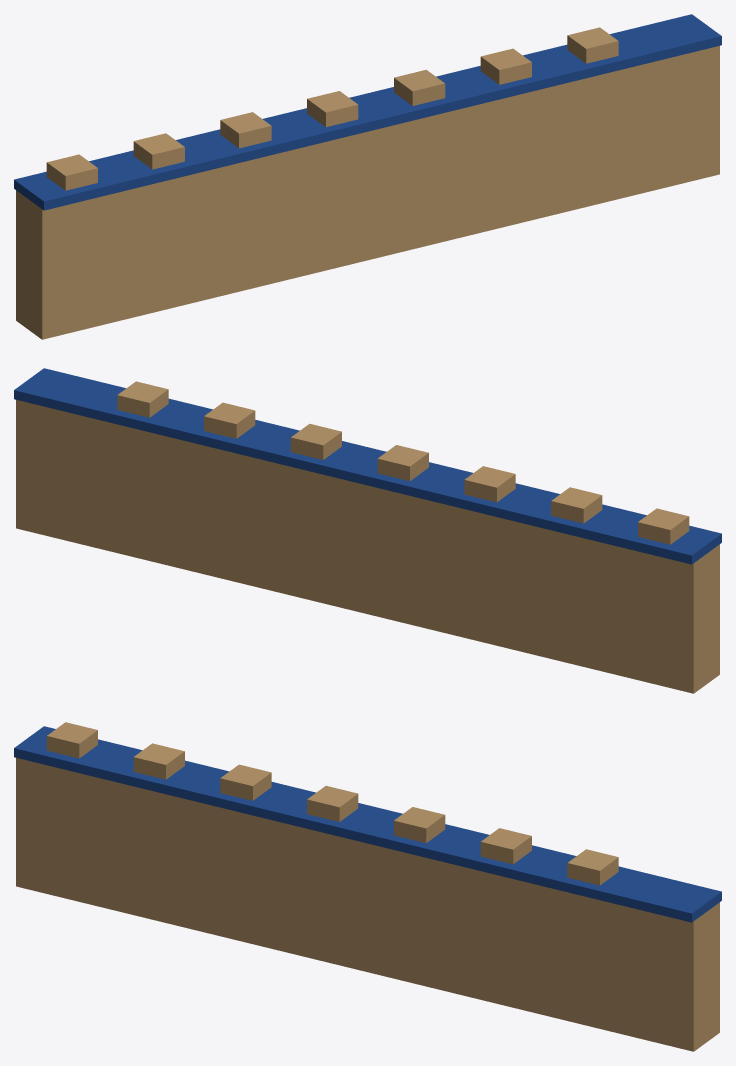
The model's file is gnoll_wall.glb.
3 views of the same model, one above another, from view 1: azimuth 30°, elevation 25°; view 2: azimuth 150°, elevation 25°; view 3: azimuth 330°, elevation 25° (orthographic).
Visible parts, largest first — view 1: gnoll_wall; view 2: gnoll_wall; view 3: gnoll_wall.
Boxes of the visible parts, x1,y1,x2,y2 form: gnoll_wall: (14, 14, 721, 339); gnoll_wall: (14, 368, 721, 693); gnoll_wall: (14, 722, 721, 1051).
Size of the model in its own units: 6.25 by 1.36 by 0.48.
